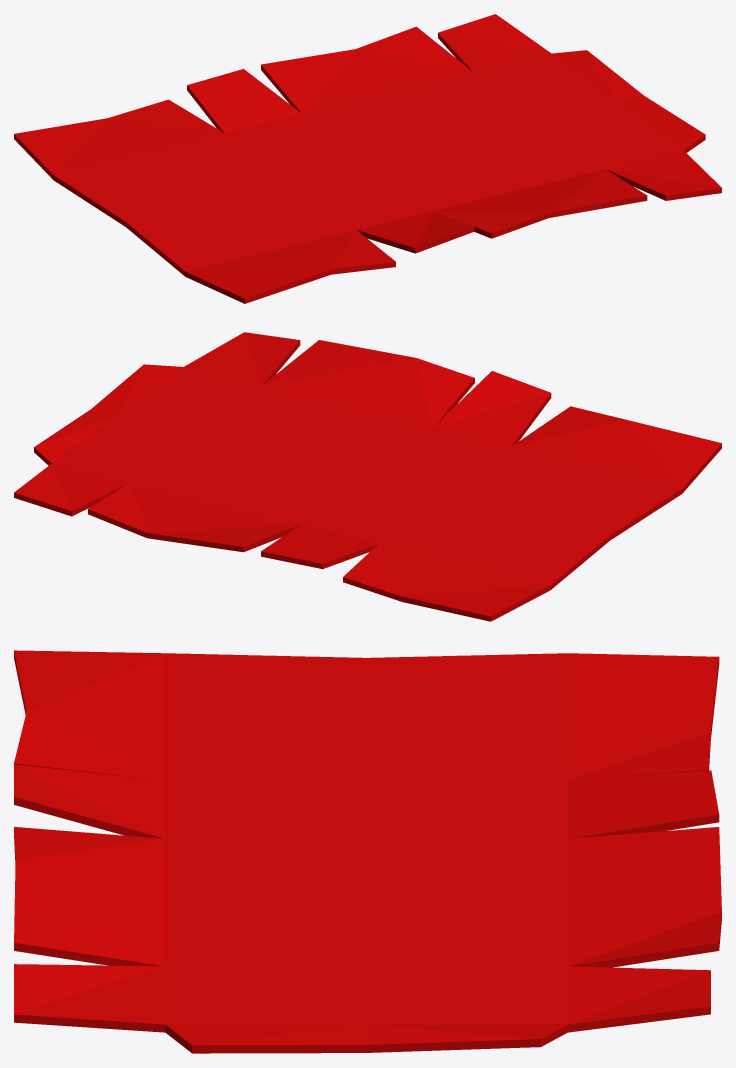
3 views of the same model, one above another, from view 1: azimuth 30°, elevation 25°; view 2: azimuth 150°, elevation 25°; view 3: azimuth 270°, elevation 25° (orthographic). The views are drawn at different scales.
Visible parts, largest first — view 1: Mesh; view 2: Mesh; view 3: Mesh.
Boxes of the visible parts, x1,y1,x2,y2 form: Mesh: (14,14,721,303); Mesh: (14,332,721,621); Mesh: (14,650,721,1053).
Size of the model in its own units: 1.86 by 0.1013 by 1.41.
